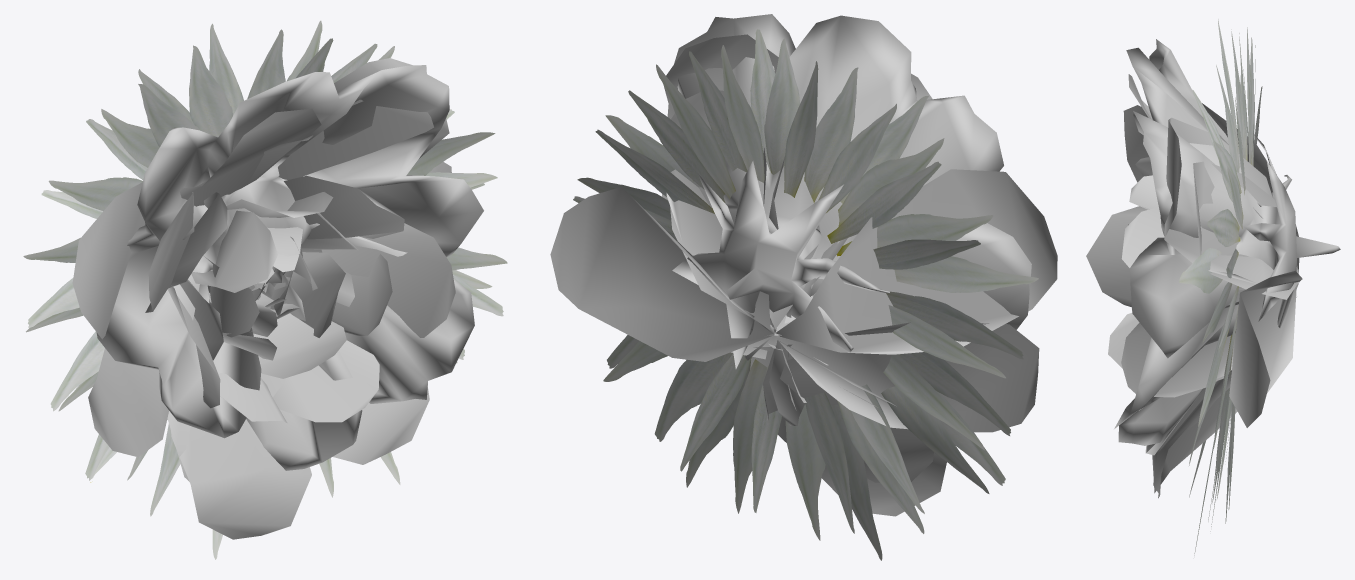
Rendered from Flowers_Particles.fbx.
The picture shows the model from 3 angles, left to right: view 1: azimuth 30°, elevation 25°; view 2: azimuth 150°, elevation 25°; view 3: azimuth 270°, elevation 25°; orthographic projection. The views are drawn at different scales.
Parts seen in each view (by area): view 1: Flower02, Flower01, Flower00; view 2: Flower00, Flower02, Flower01; view 3: Flower02, Flower01, Flower00.
Boxes of the visible parts, x1,y1,x2,y2 form: Flower02: (72,58,455,539); Flower01: (96,65,483,470); Flower00: (23,20,507,559); Flower00: (573,29,1038,560); Flower02: (550,34,1057,516); Flower01: (661,14,1031,368); Flower02: (1086,74,1302,498); Flower01: (1114,39,1340,455); Flower00: (1179,19,1262,555).
Bounding box in the file's own units: 60.84 × 61.82 × 29.46.
